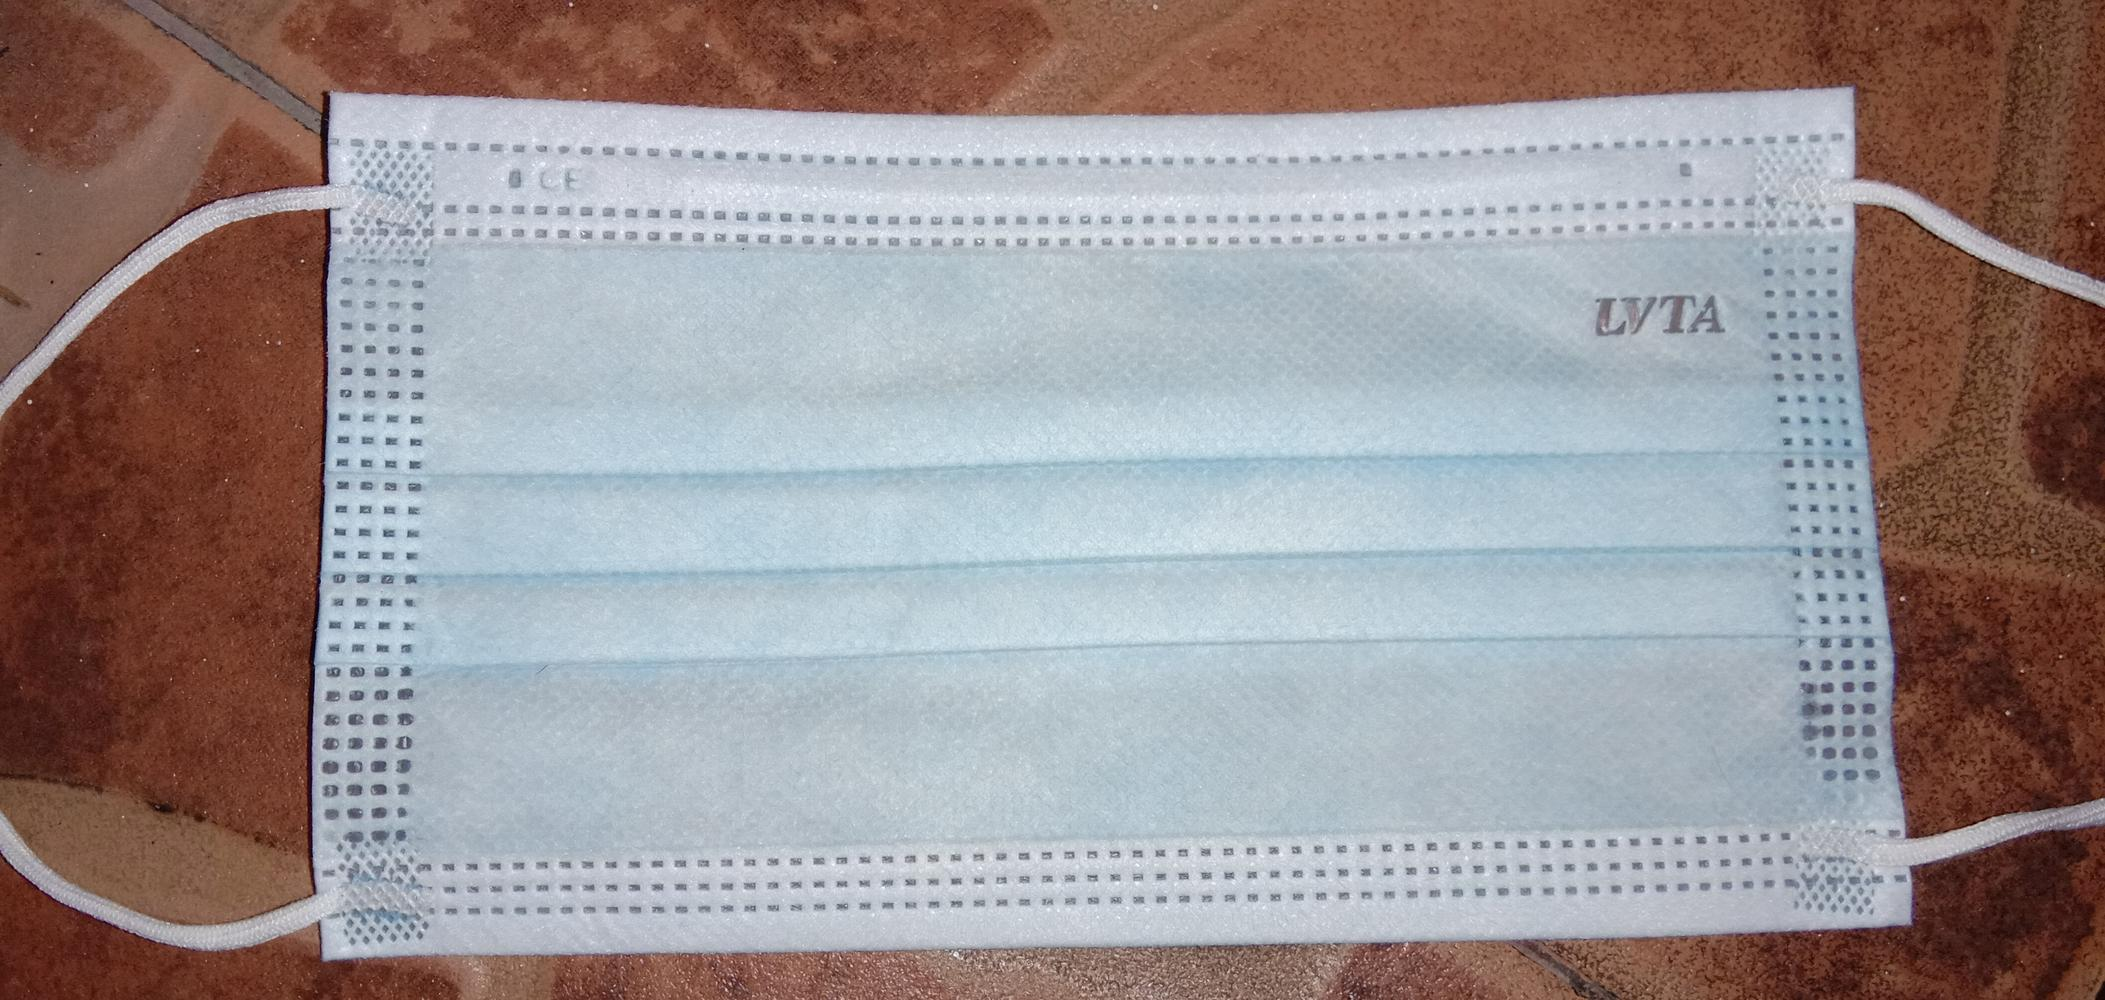Face Mask: (315, 89, 1912, 930)
